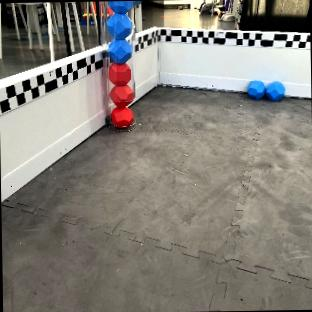V5_BLUE: (106, 0, 132, 35), (247, 80, 285, 100), (107, 38, 131, 61)
V5_RED: (110, 104, 133, 127), (109, 61, 131, 84), (109, 83, 133, 104)
